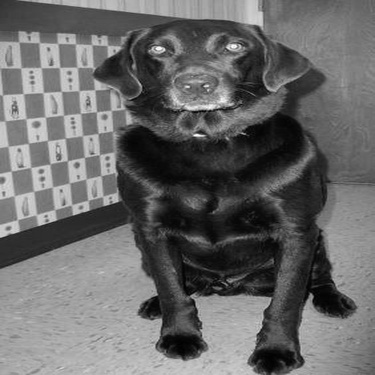dog: (71, 6, 359, 371)
